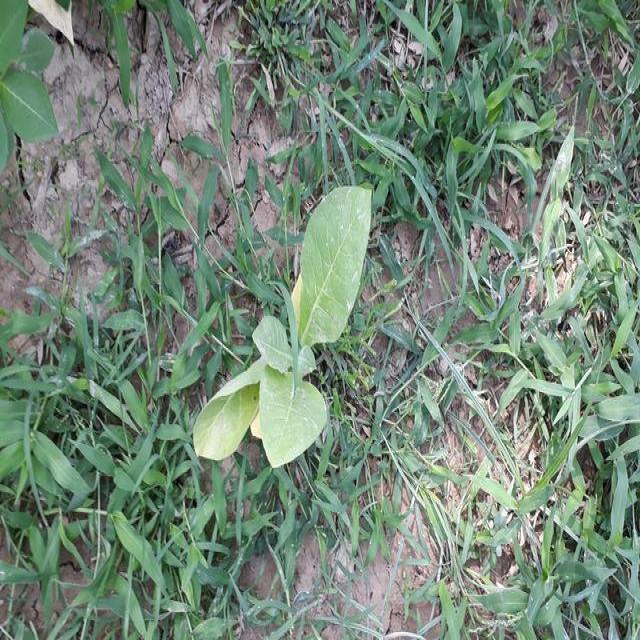crop: (188, 161, 380, 476)
